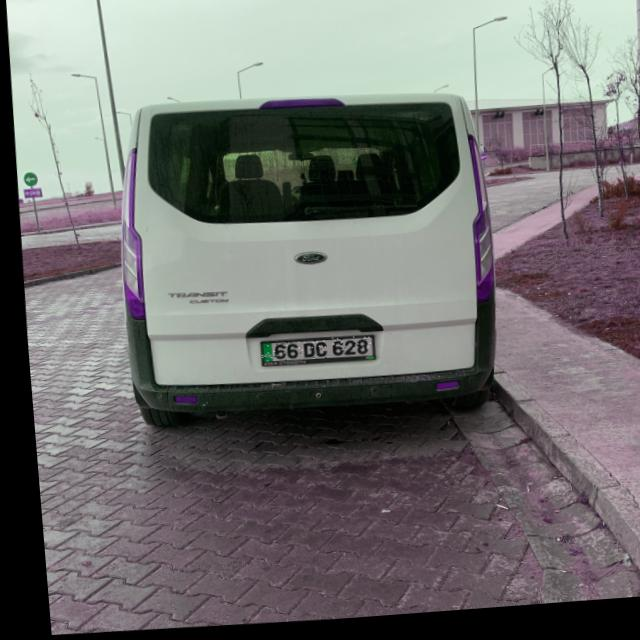license_plate: (254, 339, 366, 368)
